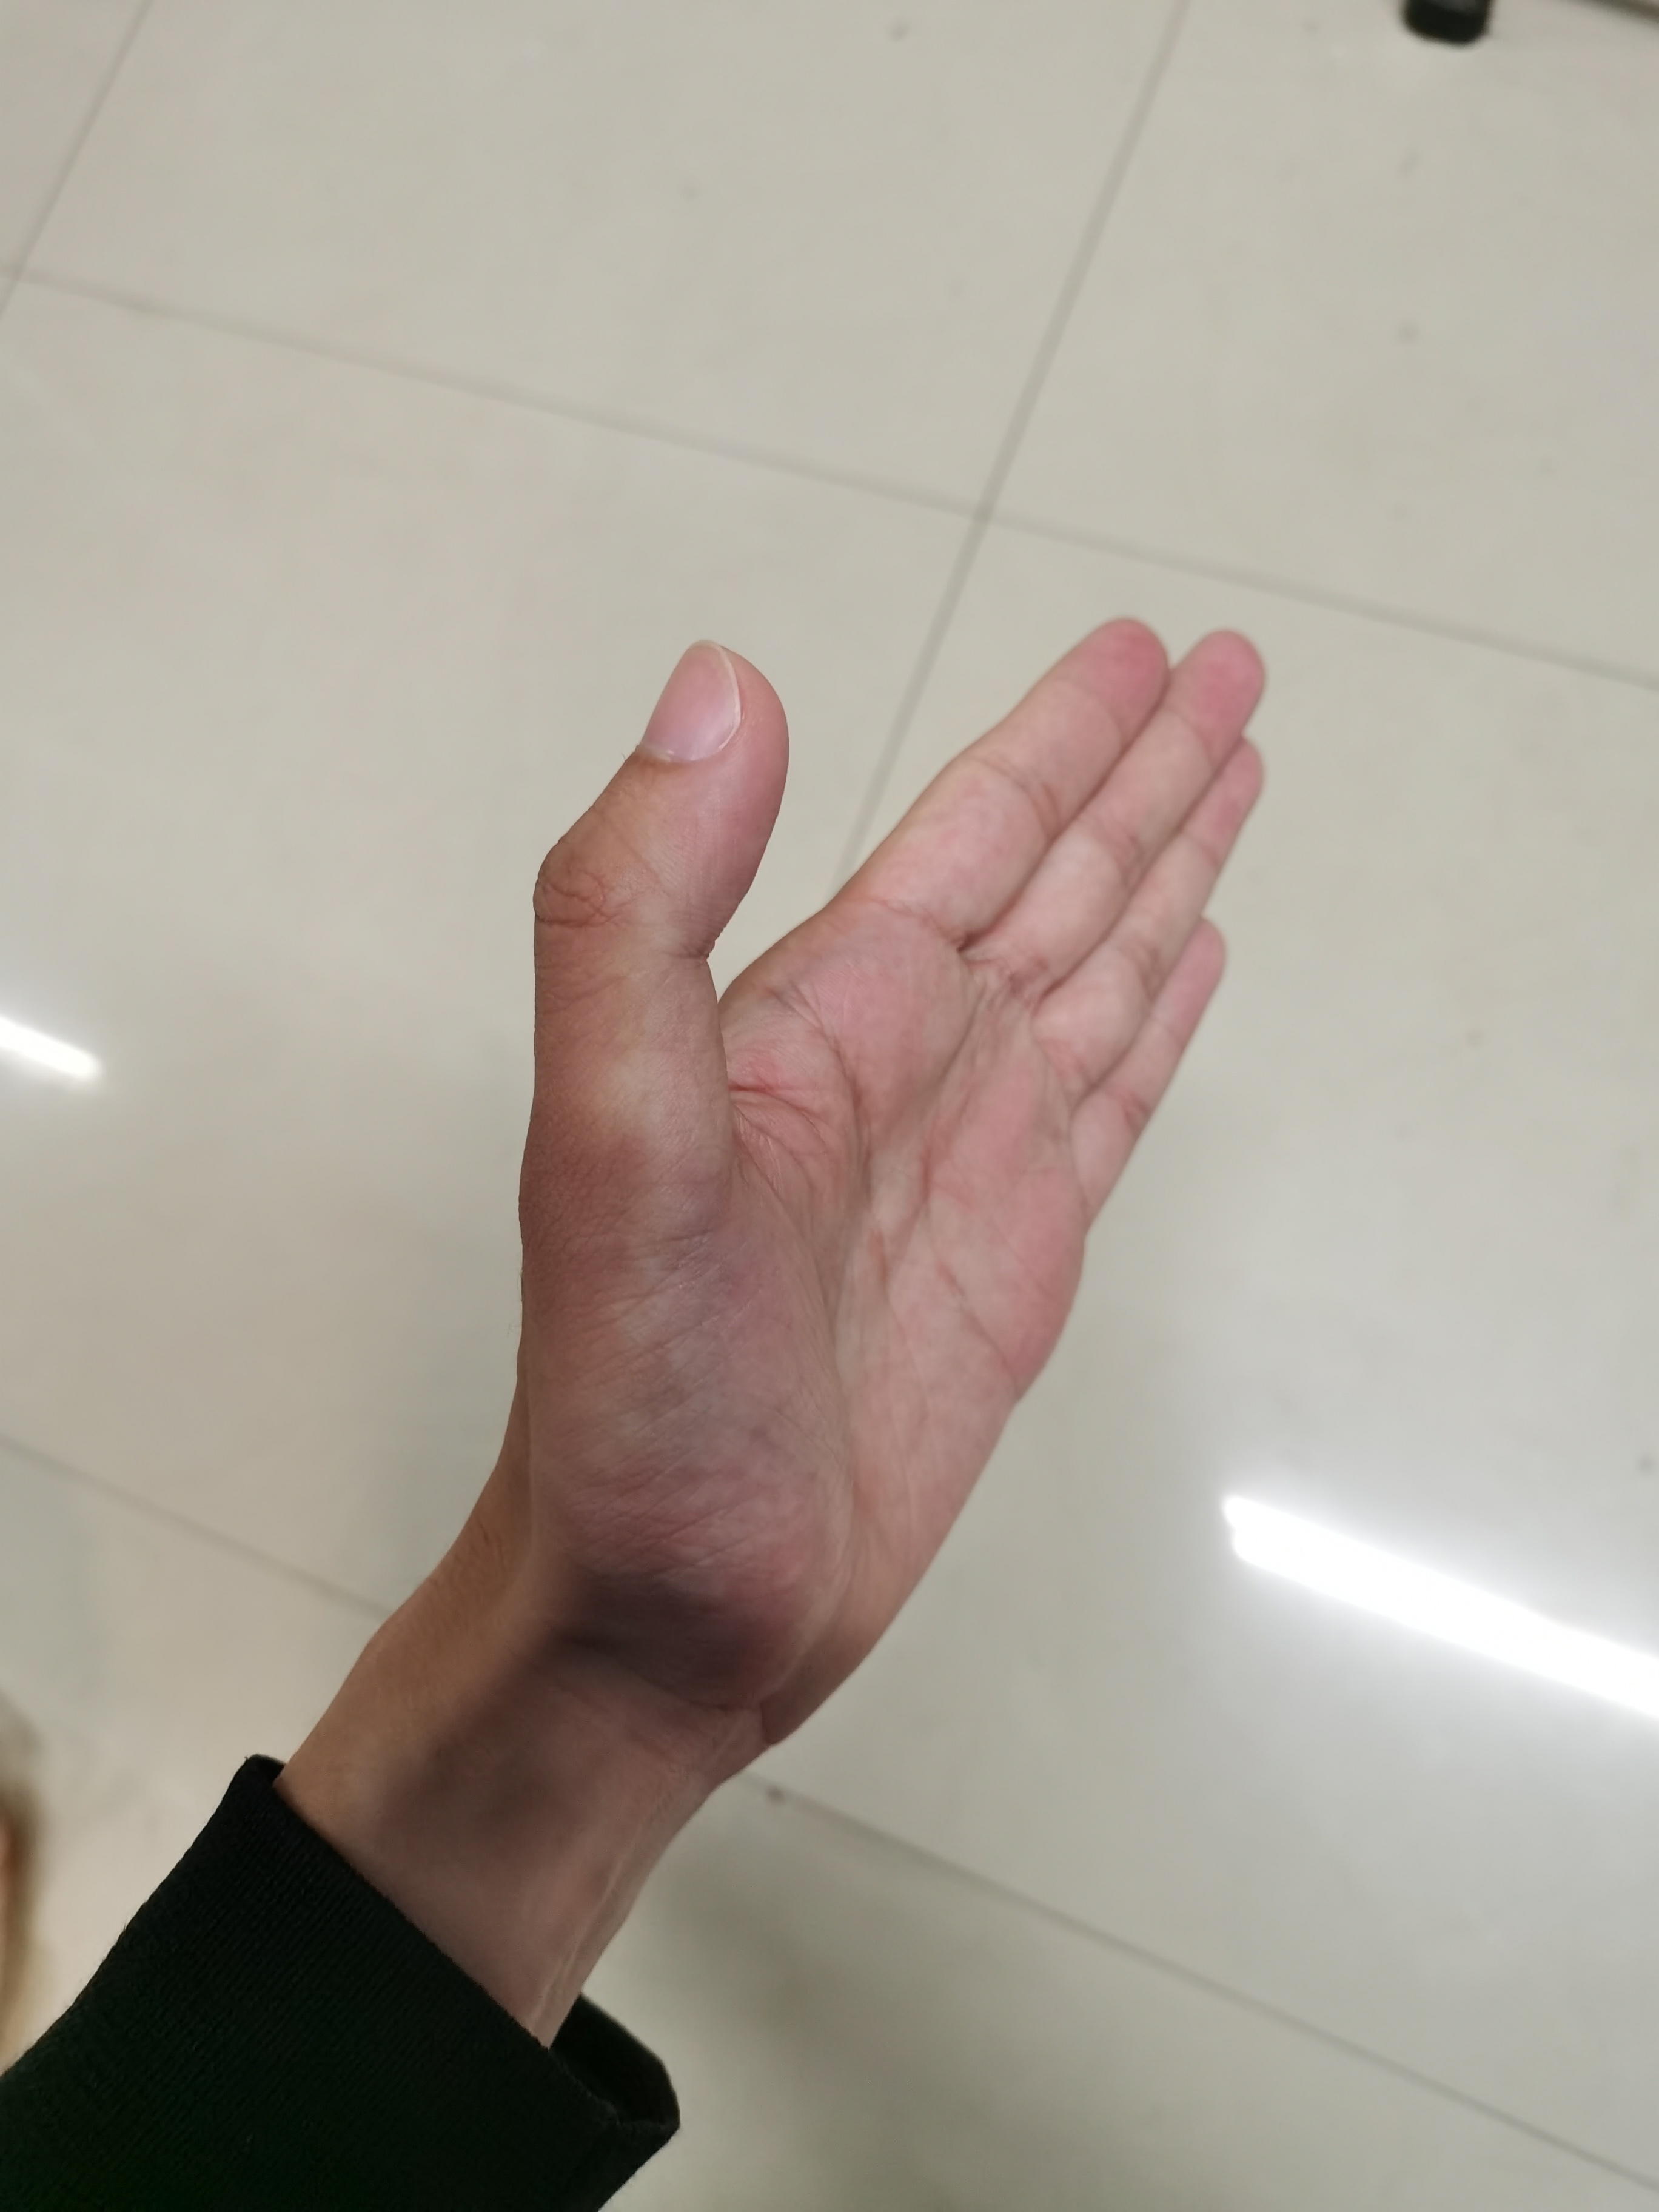no-phone: (462, 536, 1310, 1742)
